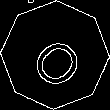O_NE: (22, 22, 88, 88)
